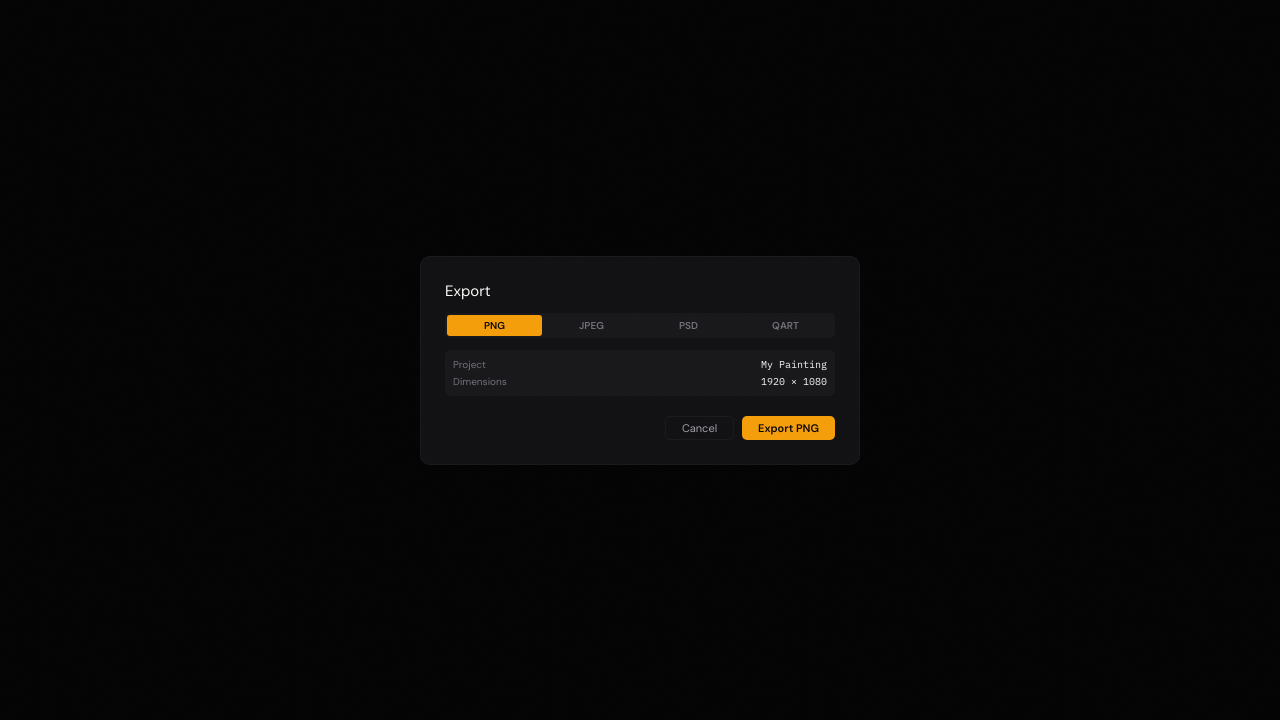
Test: ExportDialog › updates quality with slider
Click the button "JPEG".
click(592, 325)  # box [544,314,639,336]
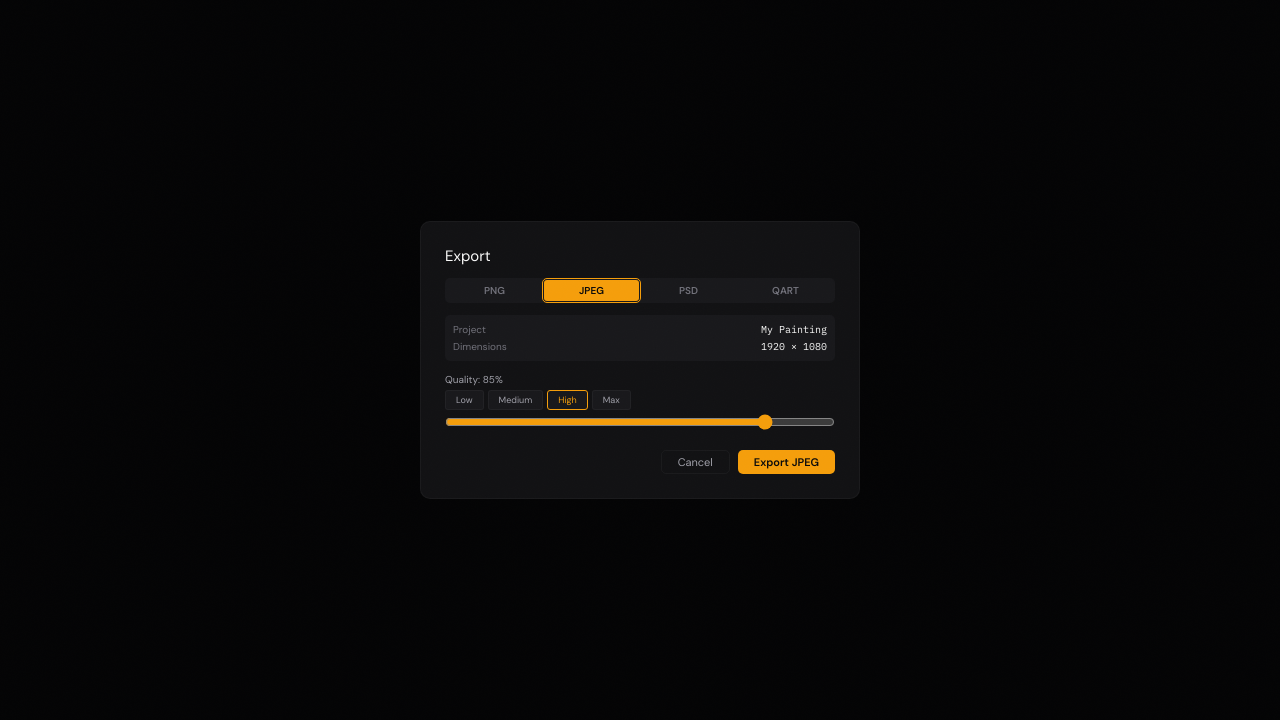
Set the slider named "JPEG quality" to "50" at (619, 422), box [445,414,835,430]
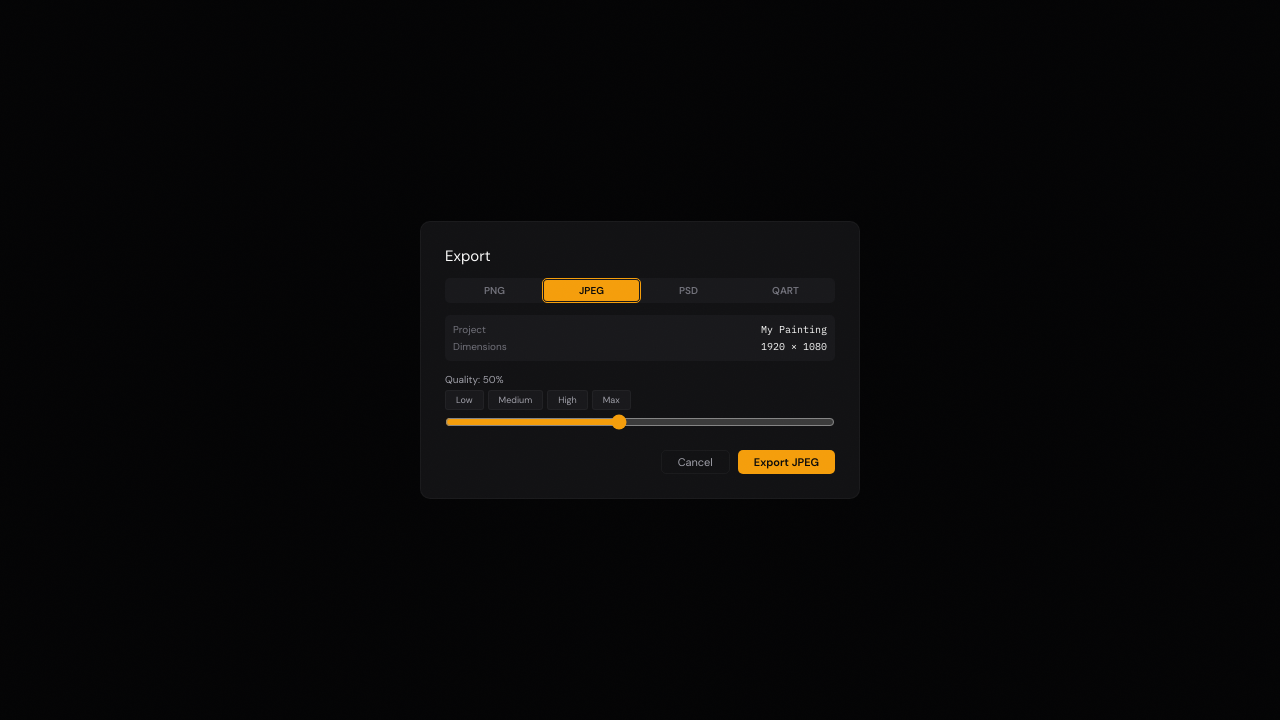
Check: the text "Quality: 50%" is shown, box [445,373,504,386]
